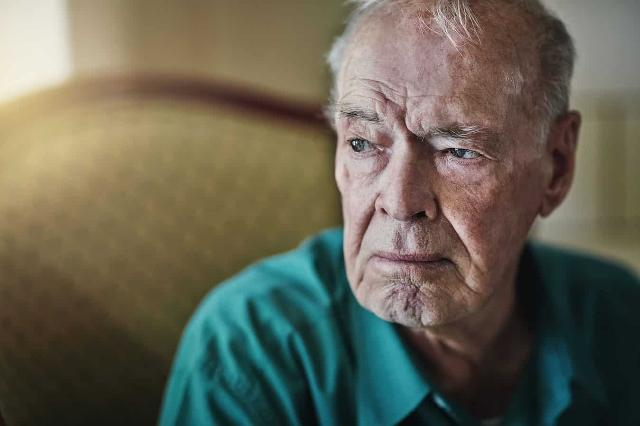chin: (402, 282, 426, 314)
forehead: (366, 79, 396, 105)
frown_line: (396, 105, 414, 141)
gummy_smile: (436, 203, 474, 246), (356, 208, 374, 246)
sad_smile: (454, 265, 482, 297)
